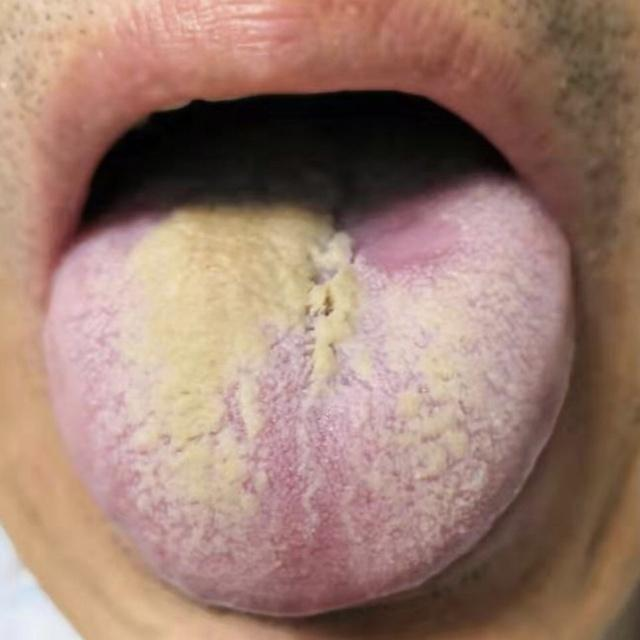botaishe: (40, 132, 580, 620)
pangdashe: (40, 131, 580, 619)
